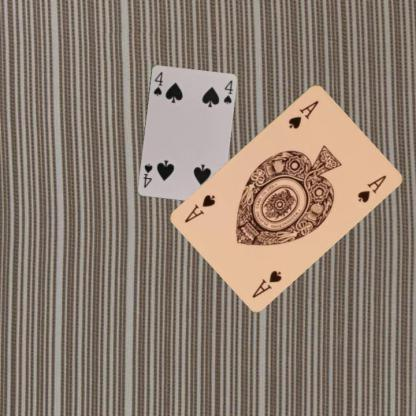4s: (151, 69, 164, 97)
As: (286, 97, 320, 130), (249, 267, 283, 299)
